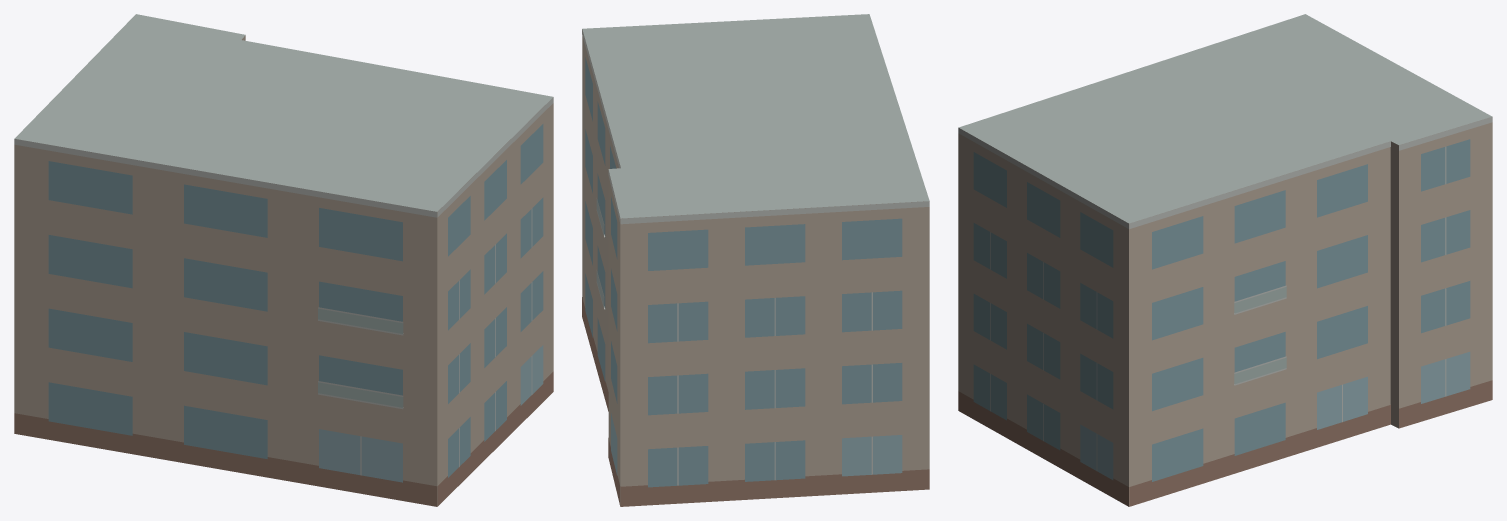
Rendered from survey-upis-32904436.glb.
The picture shows the model from 3 angles, left to right: view 1: azimuth 30°, elevation 25°; view 2: azimuth 150°, elevation 25°; view 3: azimuth 270°, elevation 25°; orthographic projection. The views are drawn at different scales.
Visible parts, largest first — view 1: survey-upis-32904436.tmp; view 2: survey-upis-32904436.tmp; view 3: survey-upis-32904436.tmp.
Part boxes in pixels (<box>): survey-upis-32904436.tmp: <box>14,14,553,506</box>; survey-upis-32904436.tmp: <box>582,14,929,506</box>; survey-upis-32904436.tmp: <box>958,14,1492,506</box>.
Bounding box in the file's own units: 19.37 × 12.2 × 20.85.
